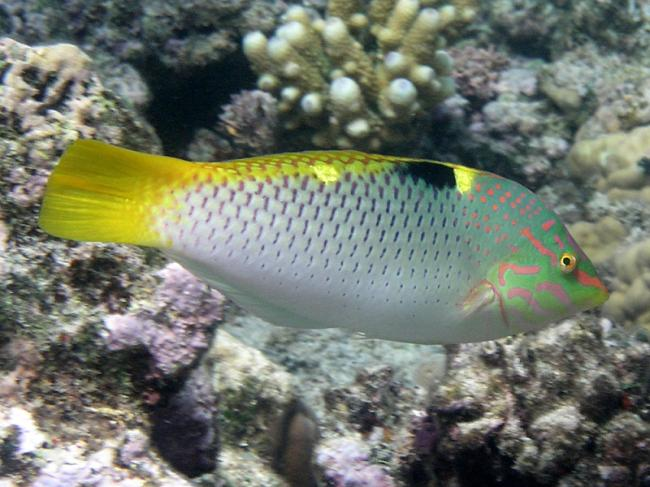fish: (38, 135, 609, 347)
